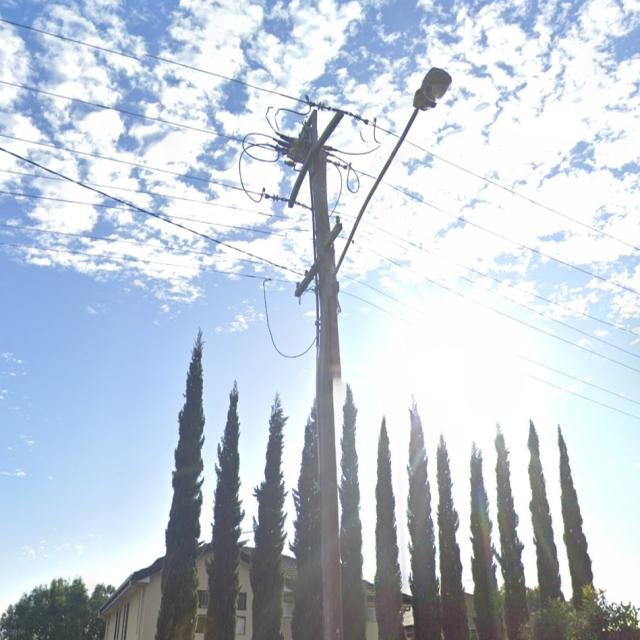HV-switch: (270, 131, 348, 168)
HV-transmission: (263, 95, 369, 210)
crossarm: (288, 109, 344, 209), (296, 223, 343, 296)
streetlight: (335, 66, 453, 276)
timber-pole: (310, 148, 344, 639)
